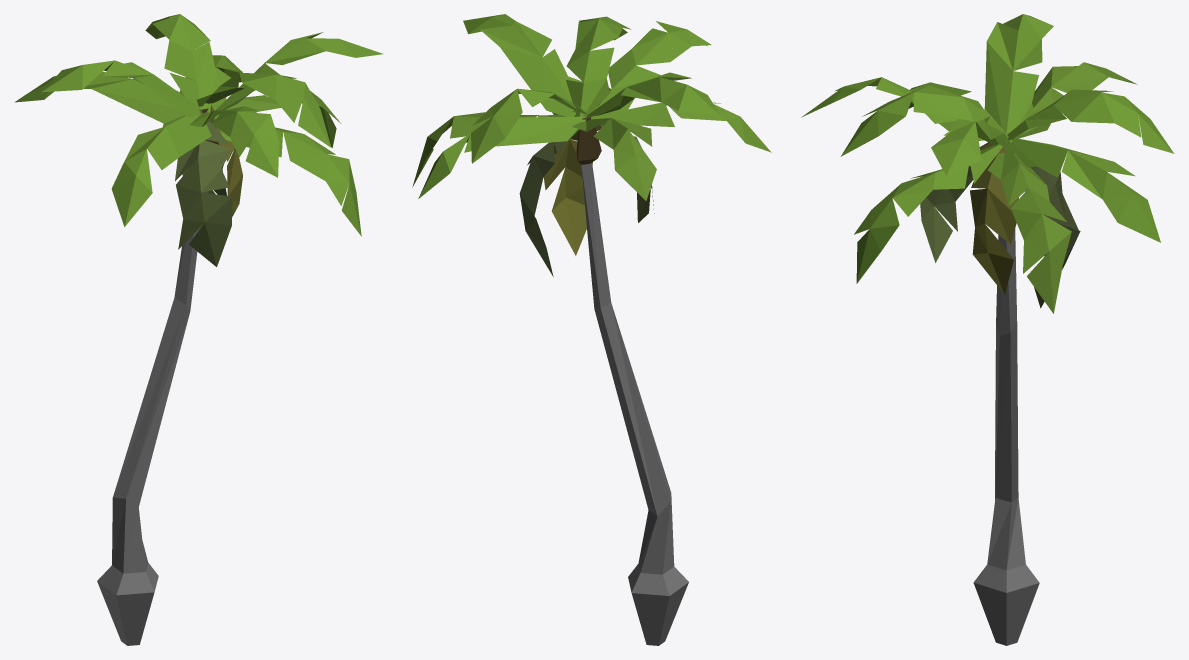
Rendered from Env_Tree01.FBX.
The picture shows the model from 3 angles, left to right: view 1: azimuth 30°, elevation 25°; view 2: azimuth 150°, elevation 25°; view 3: azimuth 270°, elevation 25°; orthographic projection. The views are drawn at different scales.
Visible parts, largest first — view 1: Env_Tree01; view 2: Env_Tree01; view 3: Env_Tree01.
Part boxes in pixels (bbox=[...]): Env_Tree01: bbox=[14, 14, 382, 645]; Env_Tree01: bbox=[412, 14, 771, 645]; Env_Tree01: bbox=[801, 14, 1174, 645].
Bounding box in the file's own units: 229 × 421 × 235.
1 material, 1 textured.
